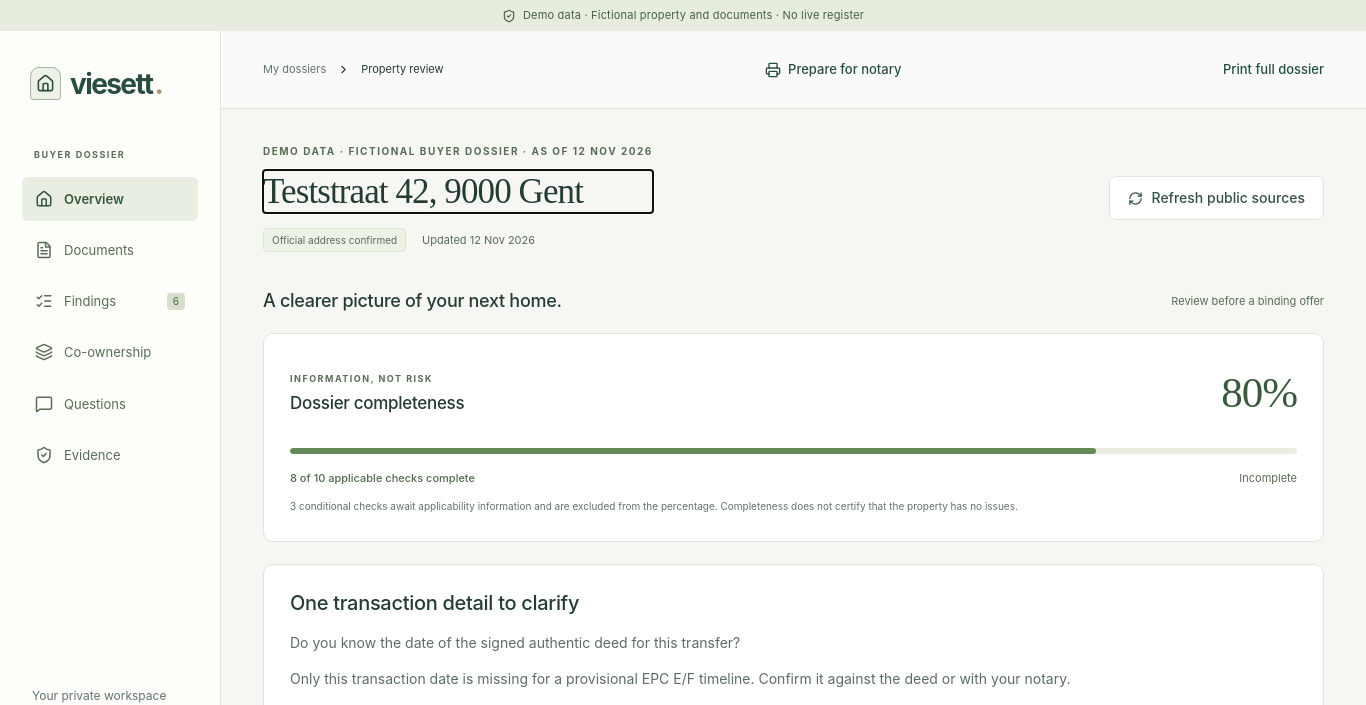
Scenario: routes Prepare for notary and Print full dossier to different, dedicated views
Check: the heading "Dossier completeness" is shown, box [290,393,464,414]
Click the link "Prepare for notary" at [833, 70], box [765,62,902,78]
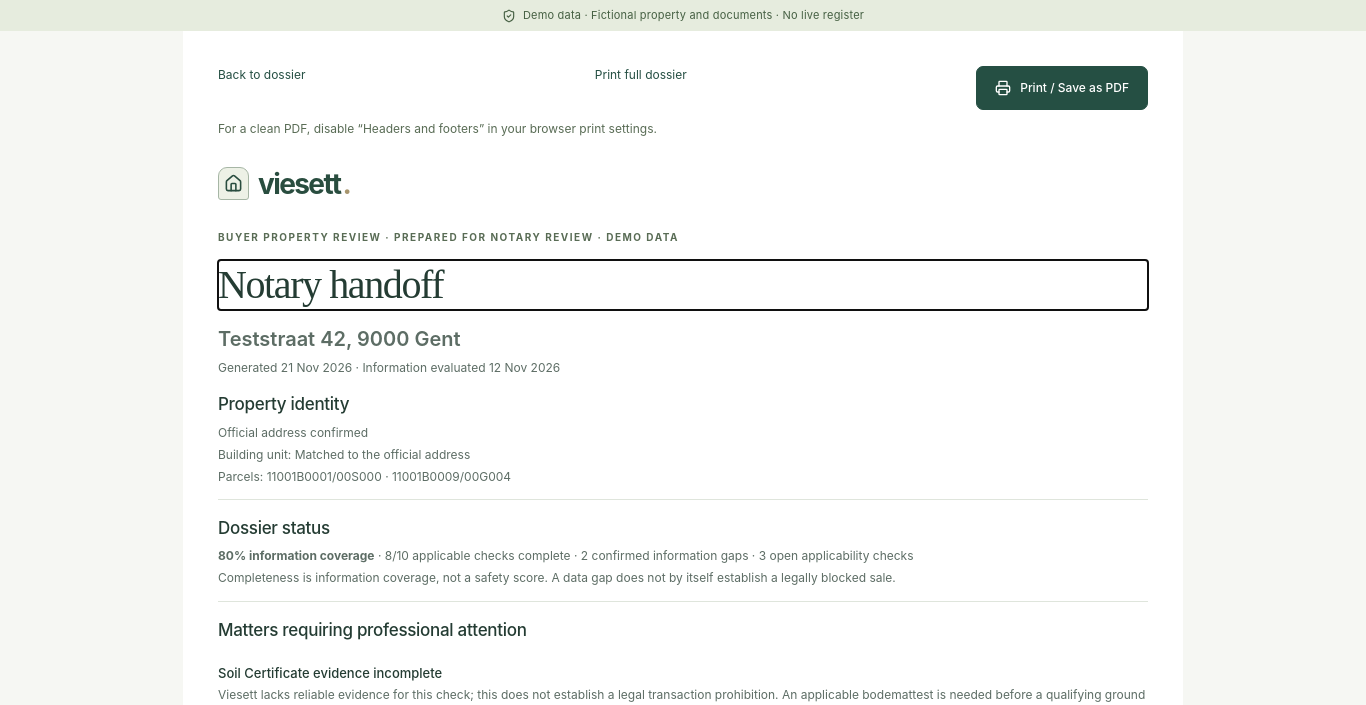
Check: the heading "Notary handoff" is shown, box [218,262,443,307]
Click the link "Print full dossier" at [641, 74], box [595,67,687,82]
(page scrolled)
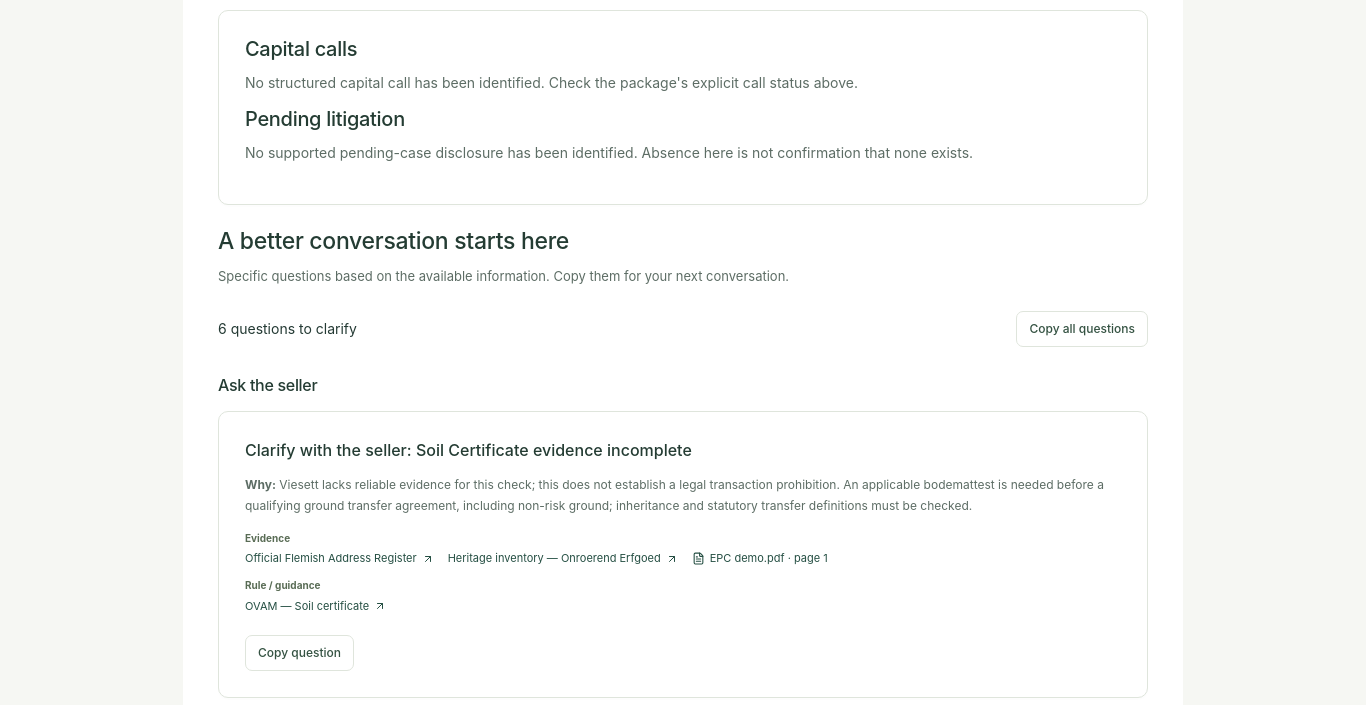
Check: the heading "Ask the seller" is shown, box [218,375,317,395]
